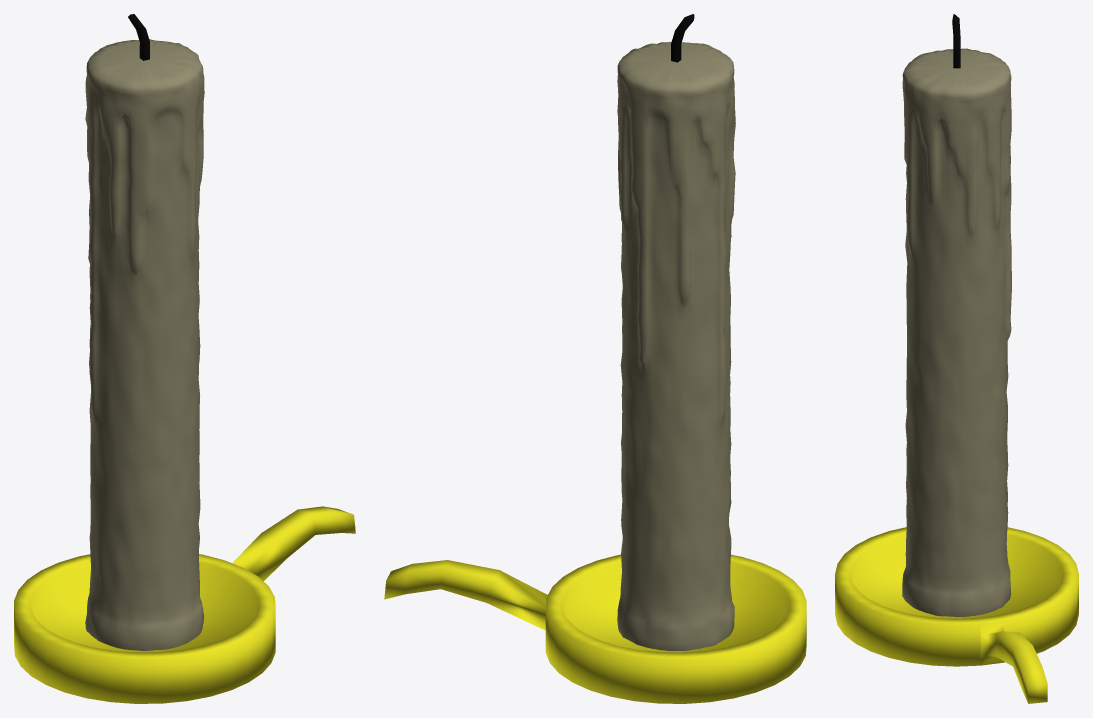
File: candel.fbx
The picture shows the model from 3 angles, left to right: view 1: azimuth 30°, elevation 25°; view 2: azimuth 150°, elevation 25°; view 3: azimuth 270°, elevation 25°; orthographic projection. The views are drawn at different scales.
Parts seen in each view (by area): view 1: Circle; view 2: Circle; view 3: Circle.
Boxes of the visible parts, x1,y1,x2,y2 form: Circle: [14, 14, 355, 703]; Circle: [384, 14, 806, 703]; Circle: [835, 14, 1078, 703].
Bounding box in the file's own units: 320 × 538 × 200.
